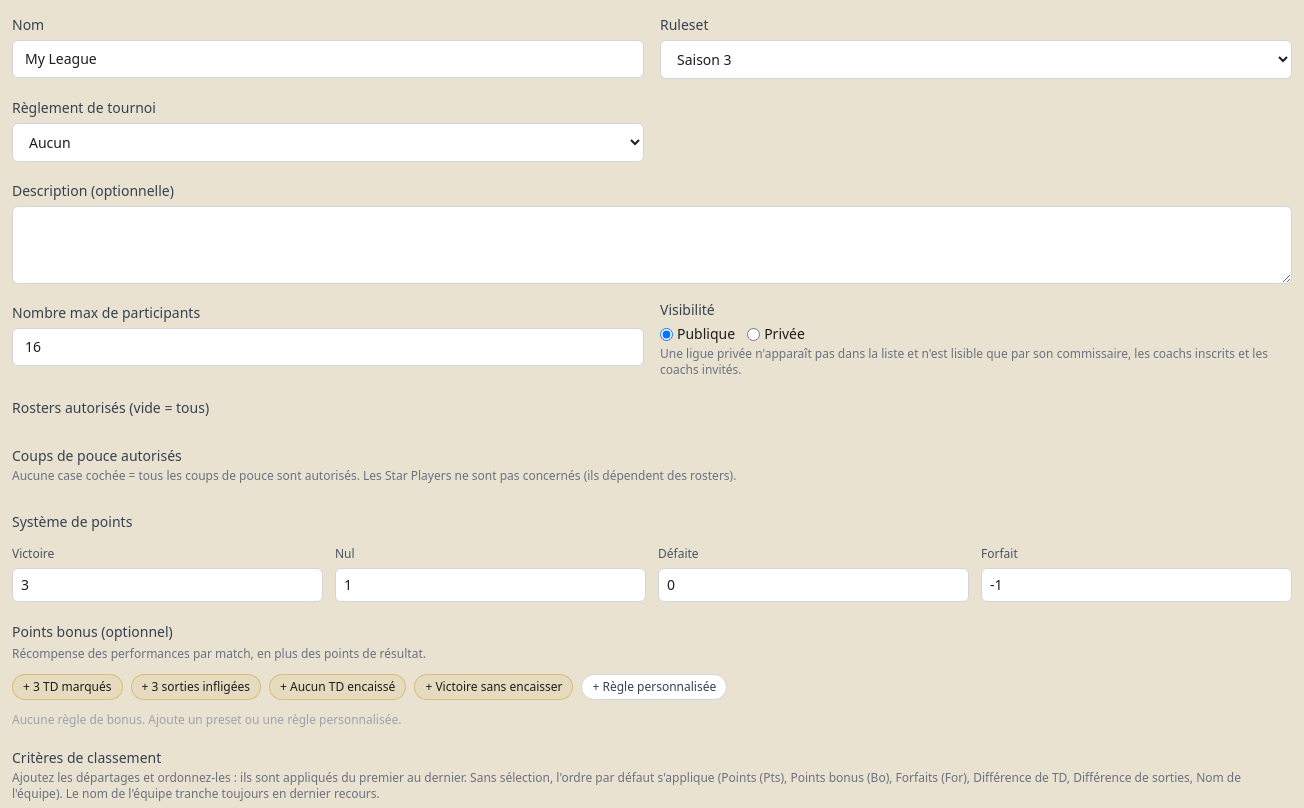
it: LeagueForm — editeur de points bonus (E1) › ajoute une regle personnalisee puis masque le seuil en passant a une condition booleenne
The image size is (1304, 808).
Expected: the element with test id "league-form-bonus" is shown, [12,622,727,728]
Step 1. Click the button with test id "bonus-add-custom" → (654, 687), box [582,674,727,700]
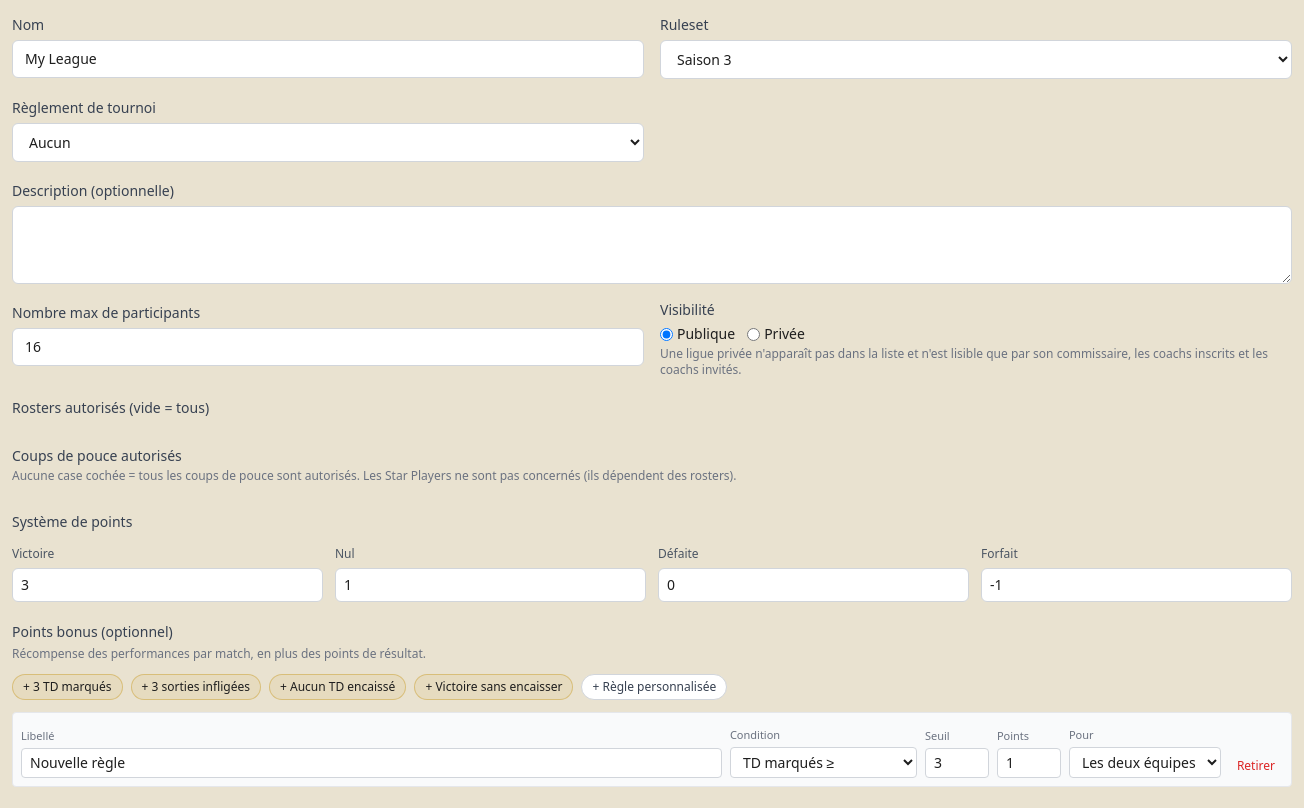
Result: the number field with test id "bonus-rule-0-value" is shown at [925,748,989,778]
Step 2. Select "Aucun TD encaissé" in the dropdown with test id "bonus-rule-0-condition" → (823, 762), box [730,747,917,778]
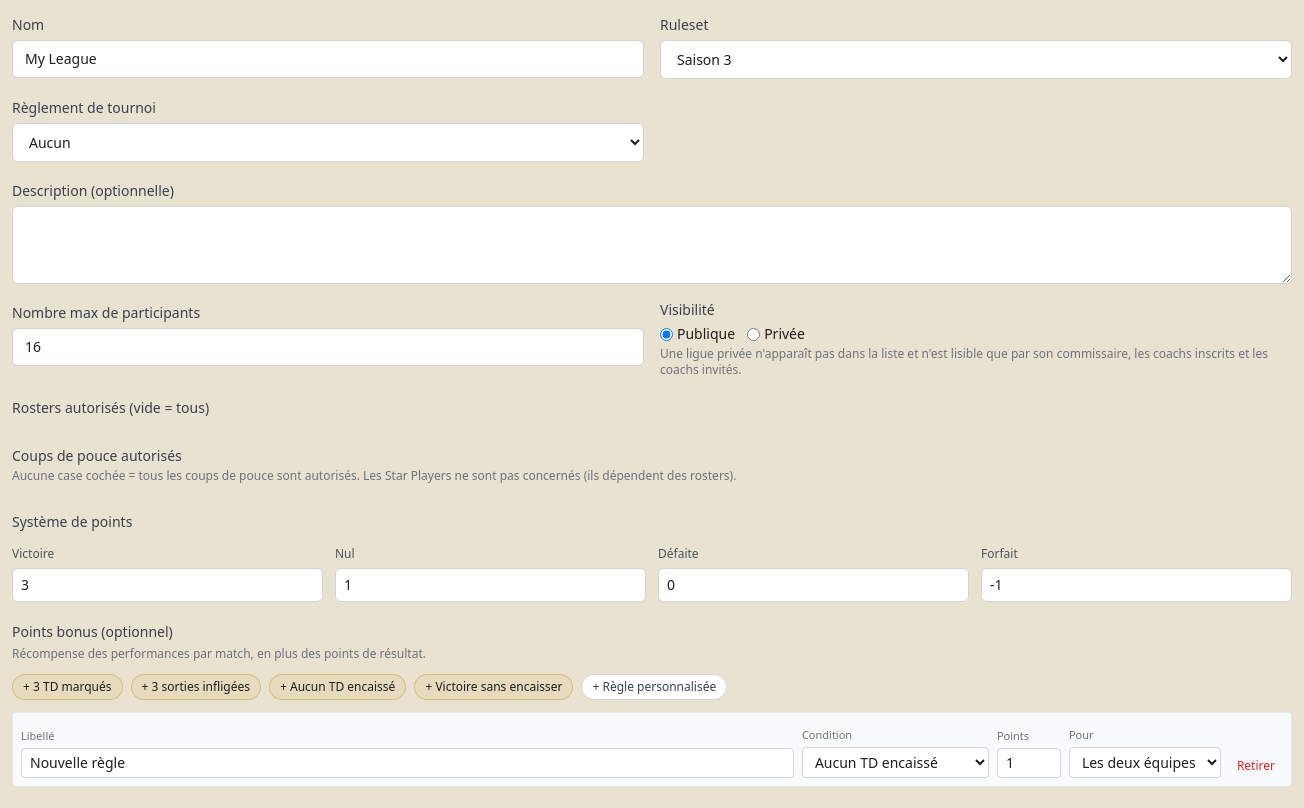
Result: the number field with test id "bonus-rule-0-value" is gone
